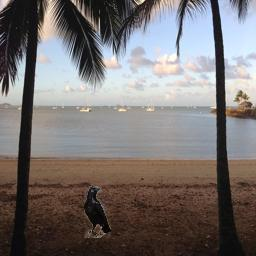Crow: (84, 186, 111, 238)
